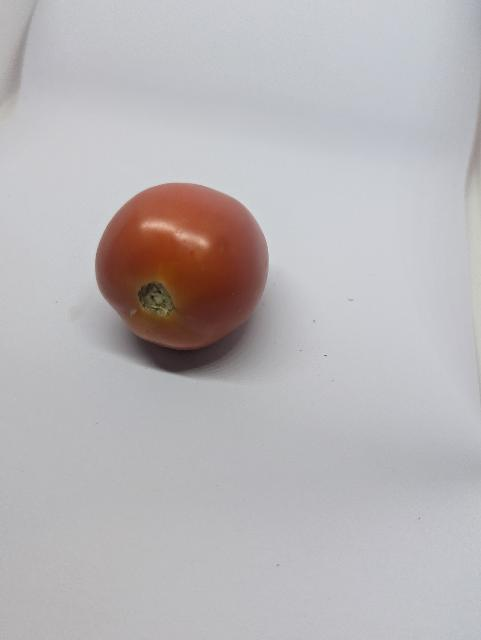red: (88, 180, 281, 364)
